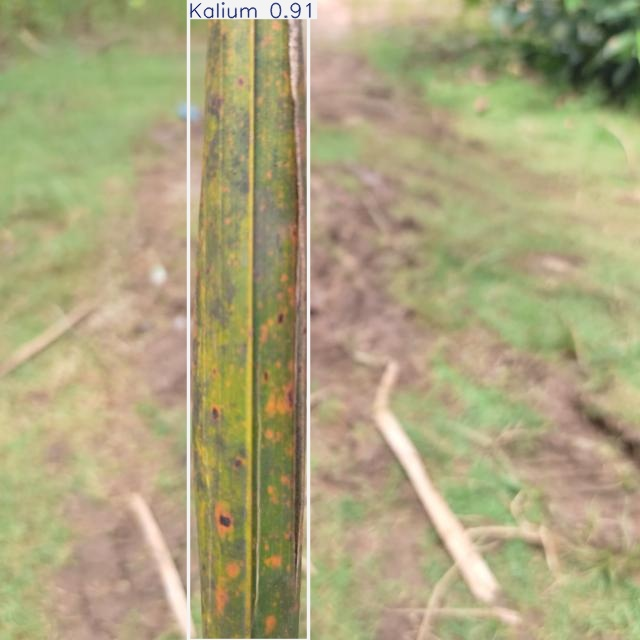Kalium: (189, 0, 309, 640)
